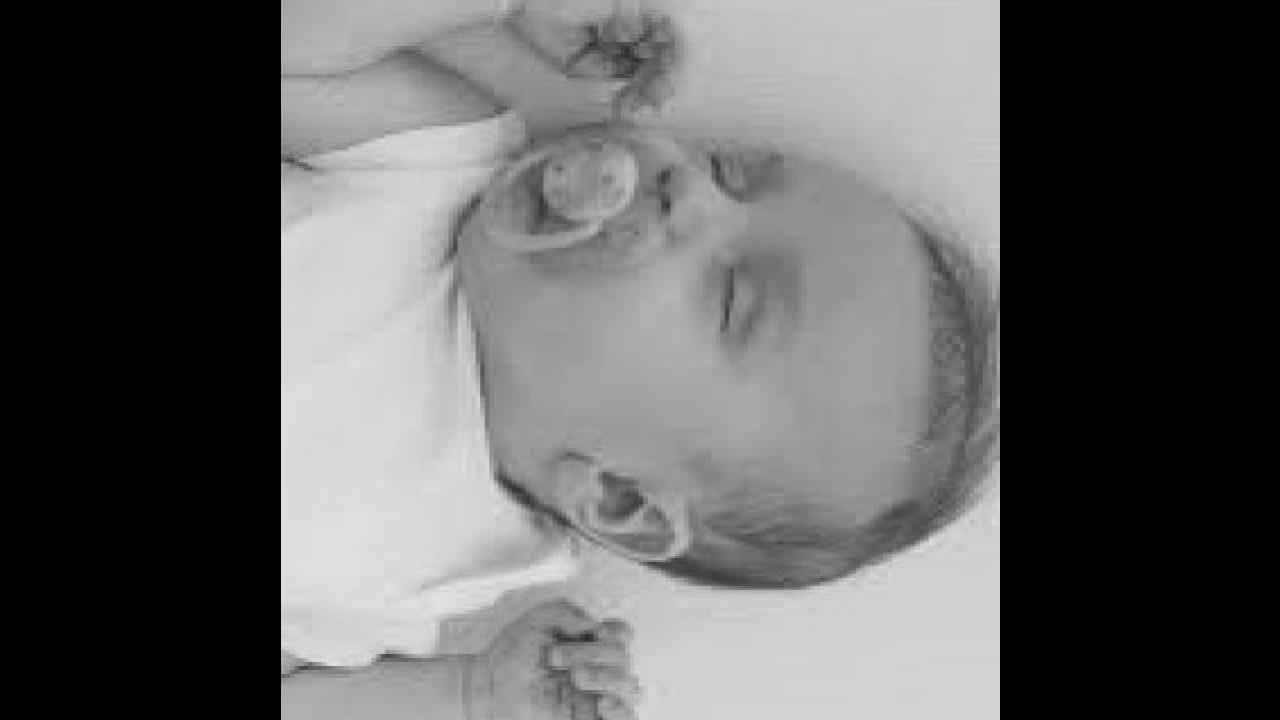hand: (477, 587, 645, 720), (498, 0, 695, 106)
